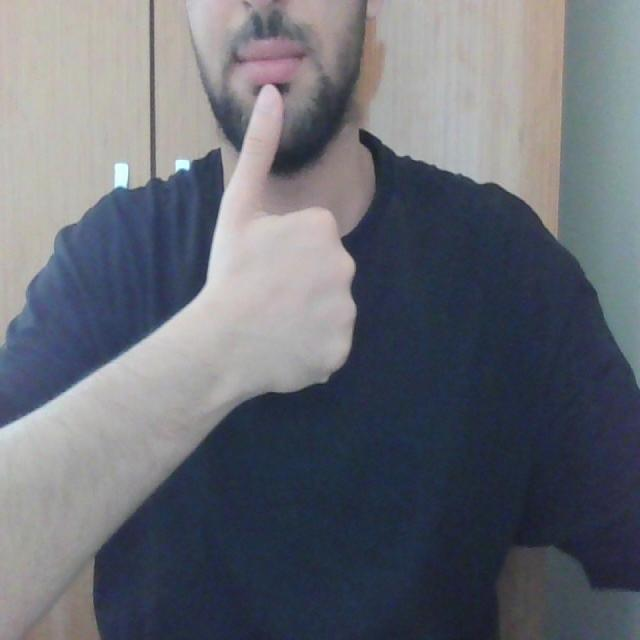Baba: (219, 20, 322, 197)
